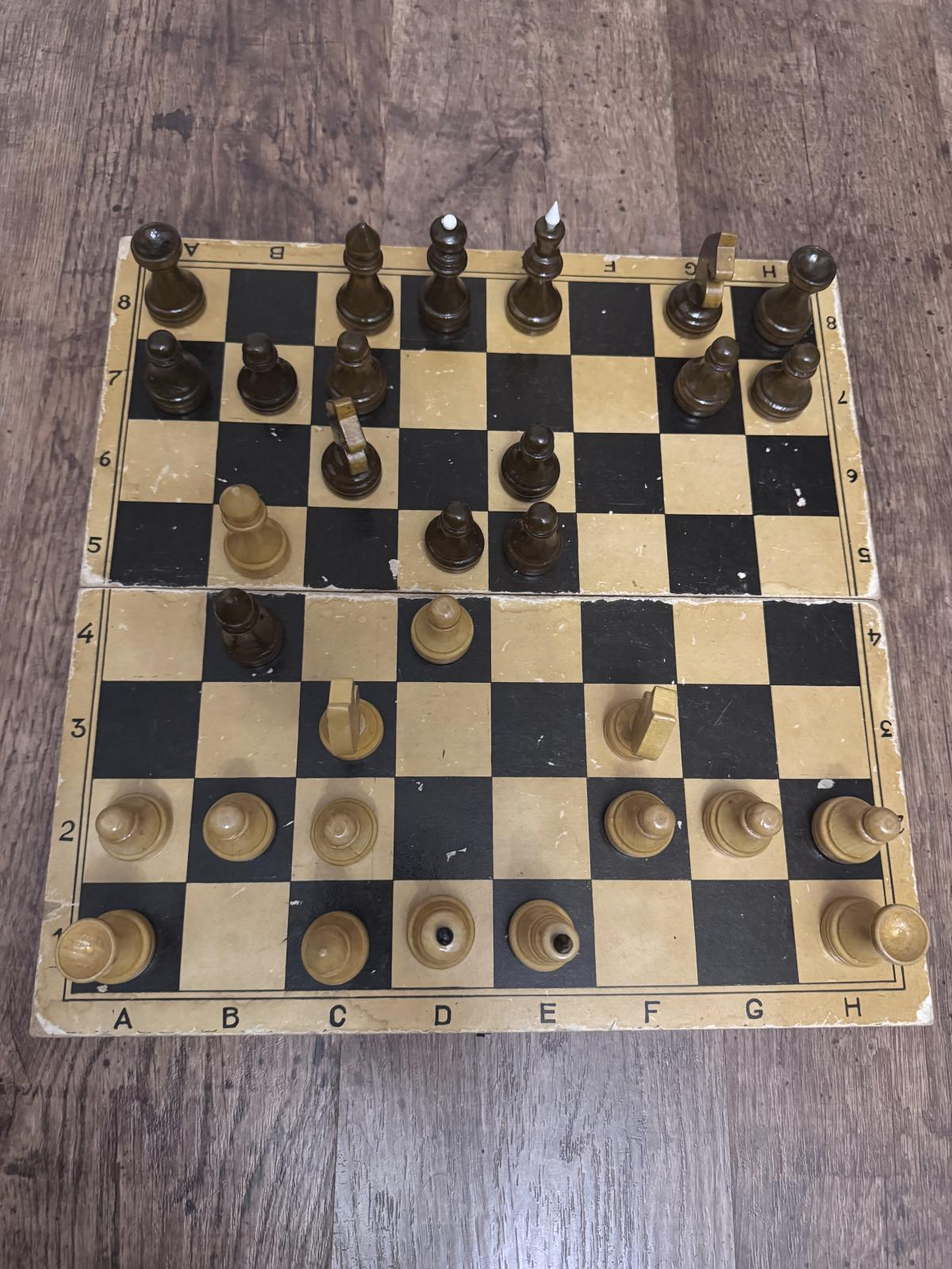Chess-Board: (71, 266, 895, 993)
